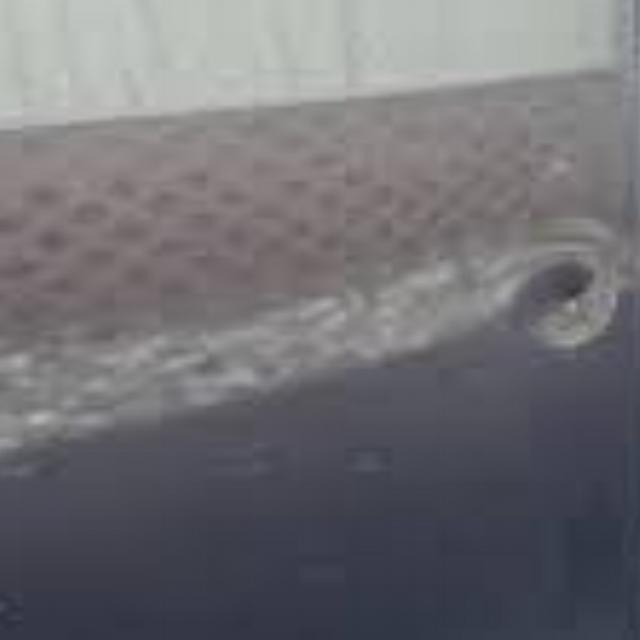dents: (508, 252, 640, 365)
